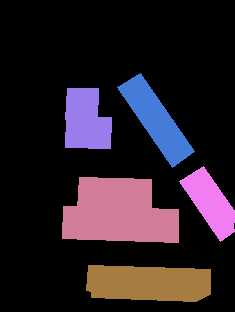parkingspot: (117, 73, 194, 167), (86, 265, 210, 301), (179, 166, 235, 241), (62, 206, 178, 242), (77, 177, 151, 211), (65, 117, 111, 148), (65, 88, 98, 120)
